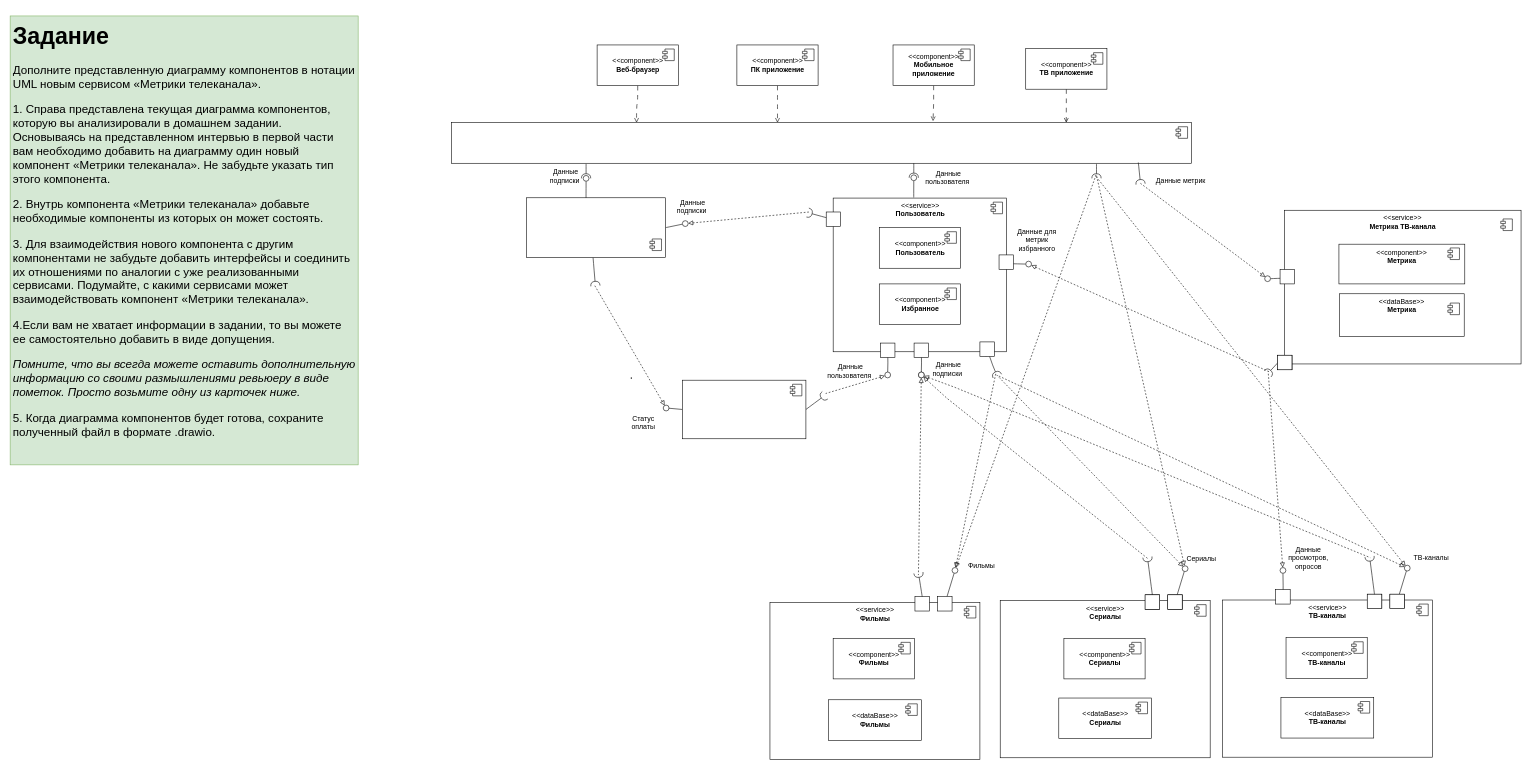
The diagram is 1531 pixels wide and 770 high, and some of its shapes have lost their labels. The centre of each missing label's shape, as x and y in pixels:
"<<component>> Слой API" belongs at point 821,142.
"<<service>> Оплата" belongs at point 744,409.
"<<service>> Подписка" belongs at point 596,227.
